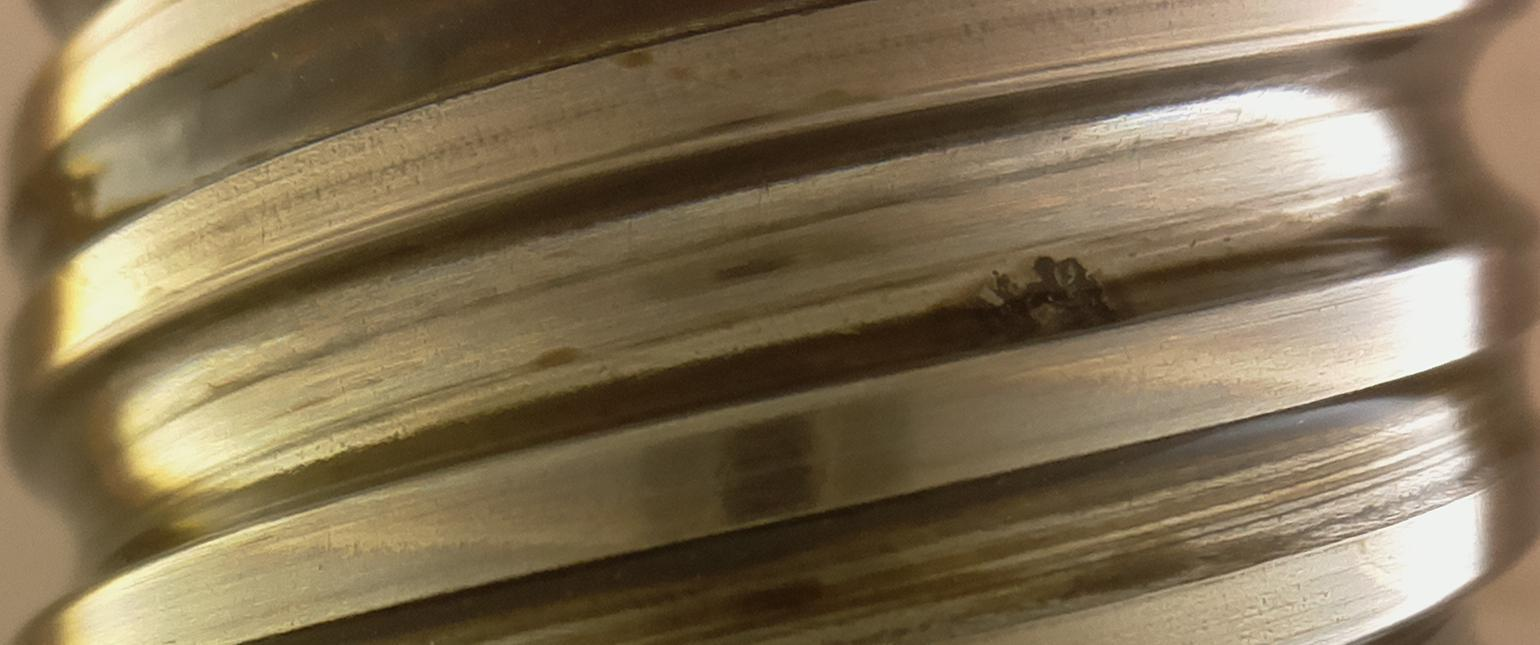pitting: (975, 255, 1121, 345)
